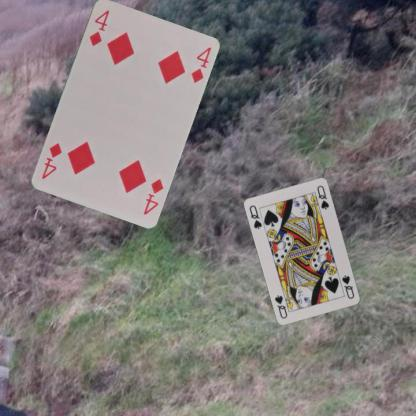4d: (140, 176, 165, 216), (86, 7, 110, 47)
Qs: (247, 203, 264, 230), (340, 273, 356, 300)
